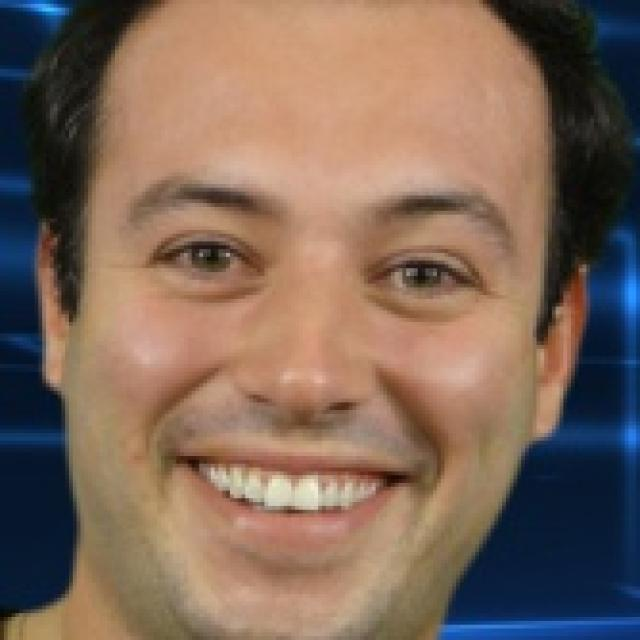Normal: (67, 0, 552, 636)
